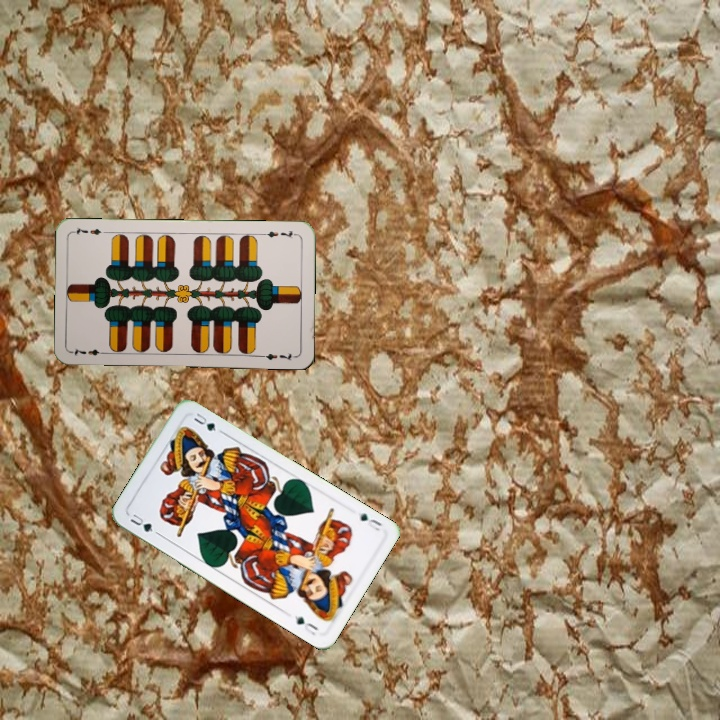E7: (69, 344, 109, 358), (259, 227, 299, 240)
GU: (126, 510, 156, 535), (356, 509, 385, 534)
